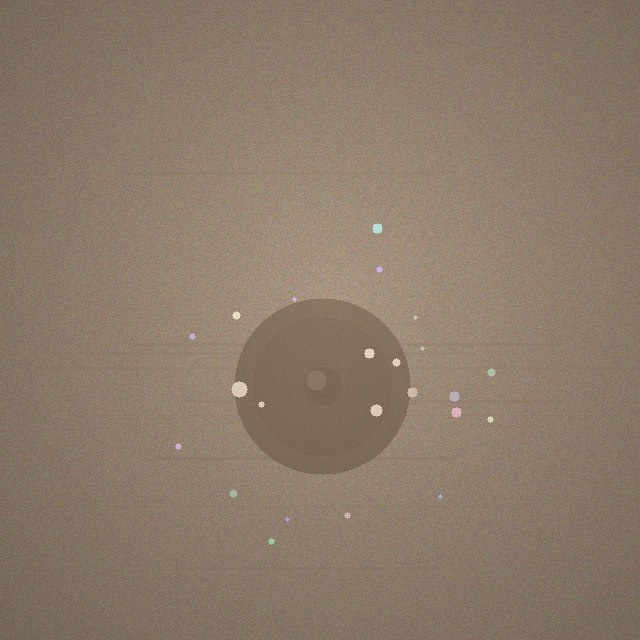overburn: (234, 298, 410, 474)
